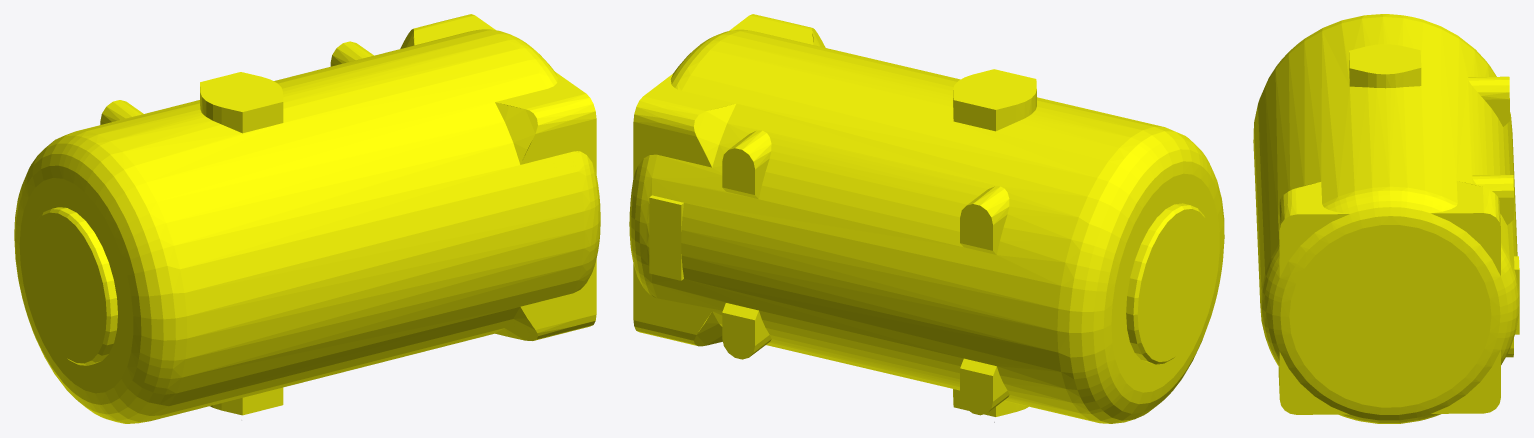
3 views of the same model, side by side, from view 1: azimuth 30°, elevation 25°; view 2: azimuth 150°, elevation 25°; view 3: azimuth 270°, elevation 25° (orthographic). The views are drawn at different scales.
Visible parts, largest first — view 1: node; view 2: node; view 3: node.
Part boxes in pixels (bbox=[...]): node: bbox=[14, 14, 600, 423]; node: bbox=[629, 14, 1224, 423]; node: bbox=[1253, 14, 1519, 423].
Size of the model in its own units: 533 by 351 by 298.
